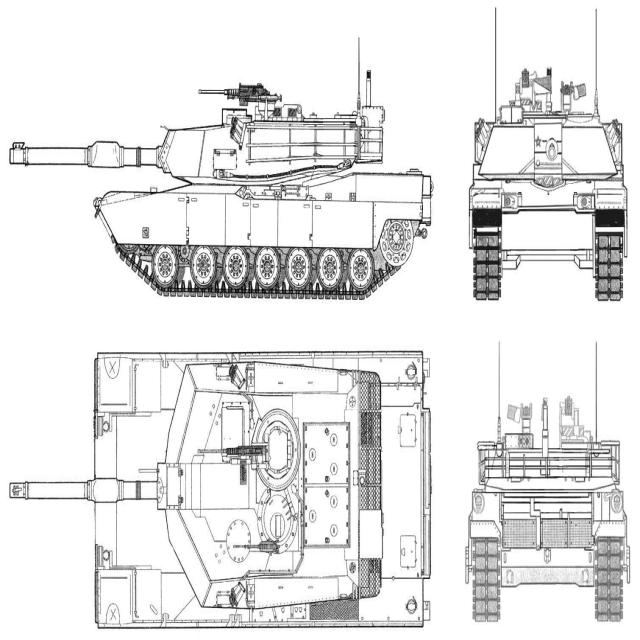Tanks: (8, 10, 432, 322), (4, 328, 448, 624), (447, 23, 578, 358), (462, 382, 576, 624)
